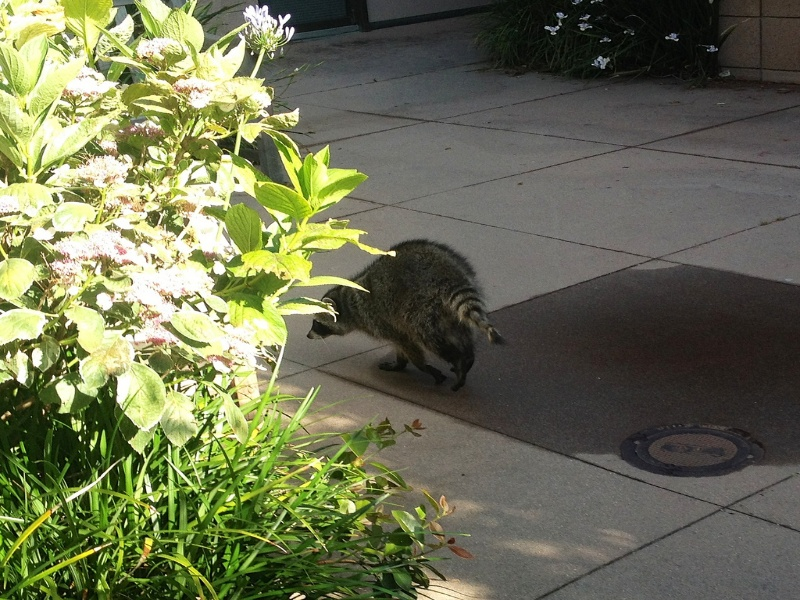raccoon: (301, 233, 509, 391)
